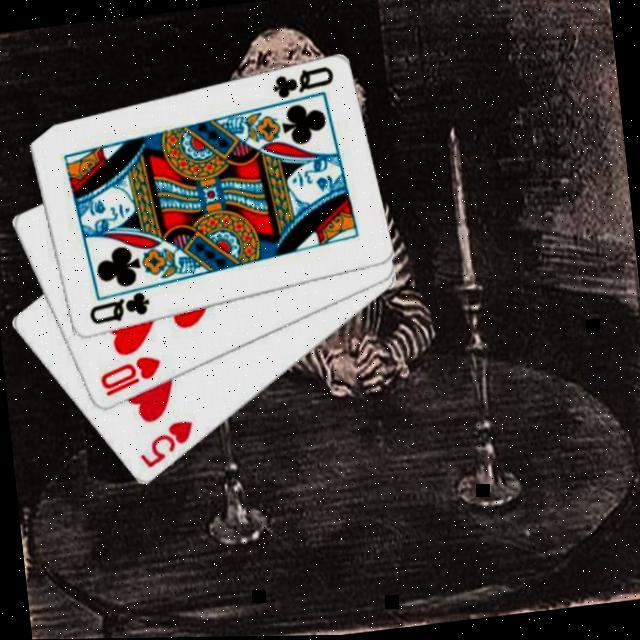10H: (93, 351, 165, 400)
5H: (132, 416, 199, 473)
QC: (83, 287, 152, 327), (267, 63, 336, 103)
